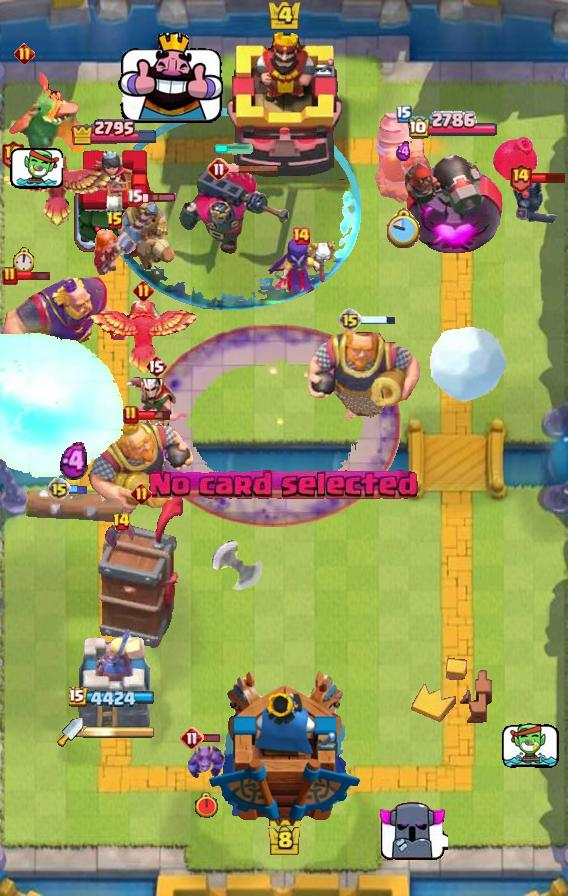axe: (267, 235, 335, 297)
baby-dragon: (492, 135, 538, 180)
bar: (75, 623, 153, 731)
barbarian-barrel: (105, 521, 137, 551)
battle-ram: (510, 173, 560, 227)
dart-goblin: (96, 494, 186, 650)
electro-spirit: (60, 442, 88, 482), (396, 141, 412, 163)
electro-wizard: (0, 66, 84, 152)
elixir: (387, 208, 422, 248), (193, 793, 218, 820), (12, 247, 34, 273)
emote: (228, 162, 280, 174), (530, 172, 567, 185), (139, 192, 177, 204), (16, 270, 51, 283), (137, 409, 172, 421), (360, 315, 396, 326), (68, 484, 88, 496), (202, 733, 221, 743)
giant-skeleton: (85, 418, 199, 522), (306, 322, 422, 422)
golden-knight: (87, 298, 199, 378), (0, 152, 112, 230)
hog-rider: (93, 228, 137, 278)
ice-spirit: (214, 143, 254, 155)
inferno-tower: (178, 167, 290, 255)
king-tower: (207, 669, 361, 826), (224, 29, 344, 181)
king-tower-bar: (83, 725, 155, 739)
lightning: (0, 276, 135, 376)
magic-archer: (374, 112, 434, 204)
mega-knight: (0, 332, 128, 482)
minion: (24, 486, 124, 524)
pad_0: (107, 108, 361, 314)
queen-tower: (71, 144, 157, 255)
ram-rider: (115, 195, 177, 273)
rocket: (145, 324, 401, 528)
royal-delivery: (186, 742, 226, 780)
royal-giant: (206, 540, 264, 602)
selected: (407, 111, 499, 141), (69, 117, 158, 145), (69, 686, 159, 710)
skeleton: (118, 31, 224, 126), (376, 800, 448, 864), (502, 723, 560, 769), (9, 147, 63, 191)
skeleton-king: (120, 368, 192, 428)
text: (508, 163, 532, 194), (0, 139, 24, 169), (207, 157, 231, 181), (338, 308, 362, 332), (47, 477, 71, 501), (180, 726, 204, 750), (145, 354, 167, 378), (14, 43, 35, 65), (131, 483, 153, 504), (133, 280, 154, 301), (291, 226, 311, 246), (113, 512, 132, 532), (106, 211, 124, 231), (2, 266, 18, 286), (123, 405, 139, 425), (125, 189, 142, 207), (396, 105, 412, 123)
tower-bar: (403, 138, 503, 256)
wall-breaker: (428, 324, 510, 404)
